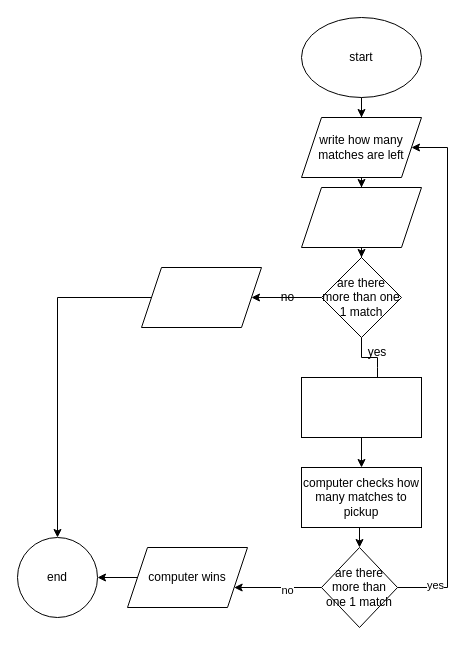
This 473x645 diagram has some shape labels left out. Each missing label, with the centre of its shape:
computers turn: (361,407)
how many matches does the player pickup: (361,217)
player won: (201,297)
